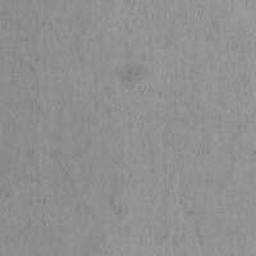Oil spot: (100, 60, 156, 92)
